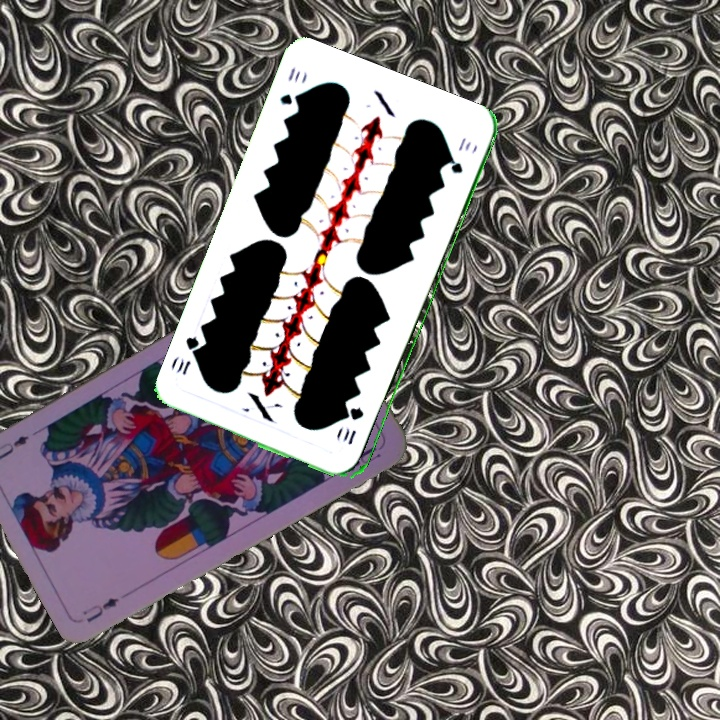EU: (78, 593, 122, 626)
G10: (276, 63, 305, 108), (344, 403, 366, 448)
